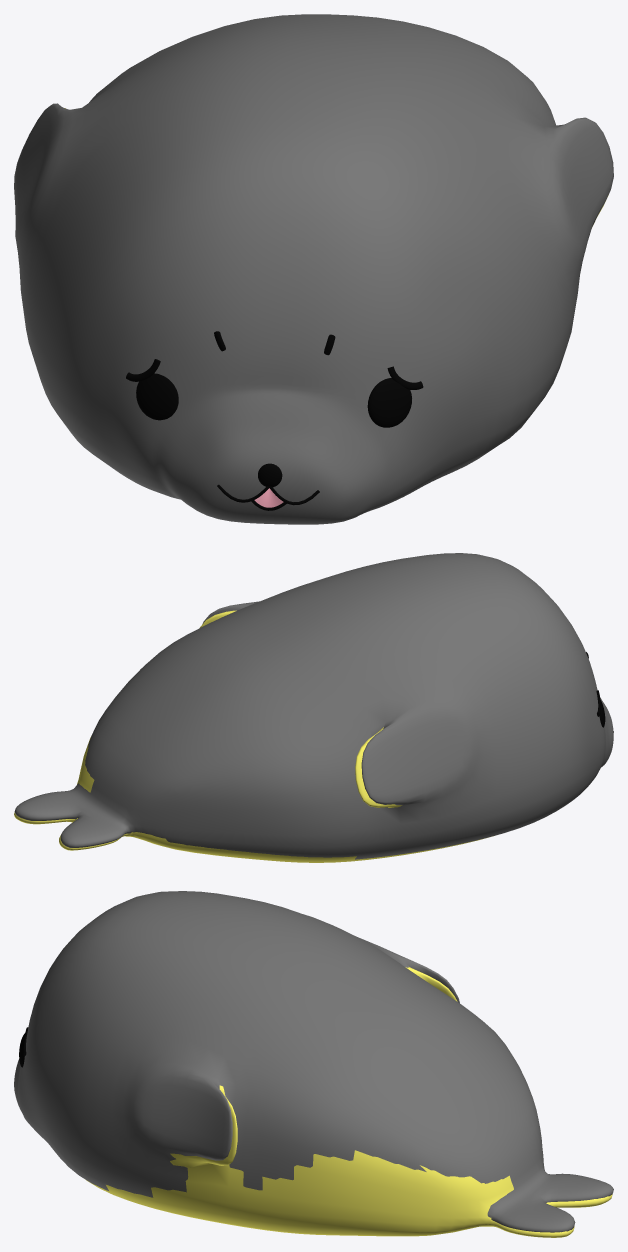
File: Seals.fbx
3 views of the same model, one above another, from view 1: azimuth 30°, elevation 25°; view 2: azimuth 150°, elevation 25°; view 3: azimuth 270°, elevation 25° (orthographic). The views are drawn at different scales.
Parts seen in each view (by area): view 1: BezierCurve.003_BezierCurve.004; view 2: BezierCurve.003_BezierCurve.004, BezierCurve.001_BezierCurve.003; view 3: BezierCurve.003_BezierCurve.004, BezierCurve.001_BezierCurve.003.
Boxes of the visible parts, <box> form: BezierCurve.003_BezierCurve.004: <box>14,14,613,524</box>; BezierCurve.003_BezierCurve.004: <box>14,553,613,859</box>; BezierCurve.001_BezierCurve.003: <box>14,610,493,862</box>; BezierCurve.003_BezierCurve.004: <box>14,891,613,1232</box>; BezierCurve.001_BezierCurve.003: <box>86,967,612,1237</box>.
Size of the model in its own units: 259 by 144 by 317.
